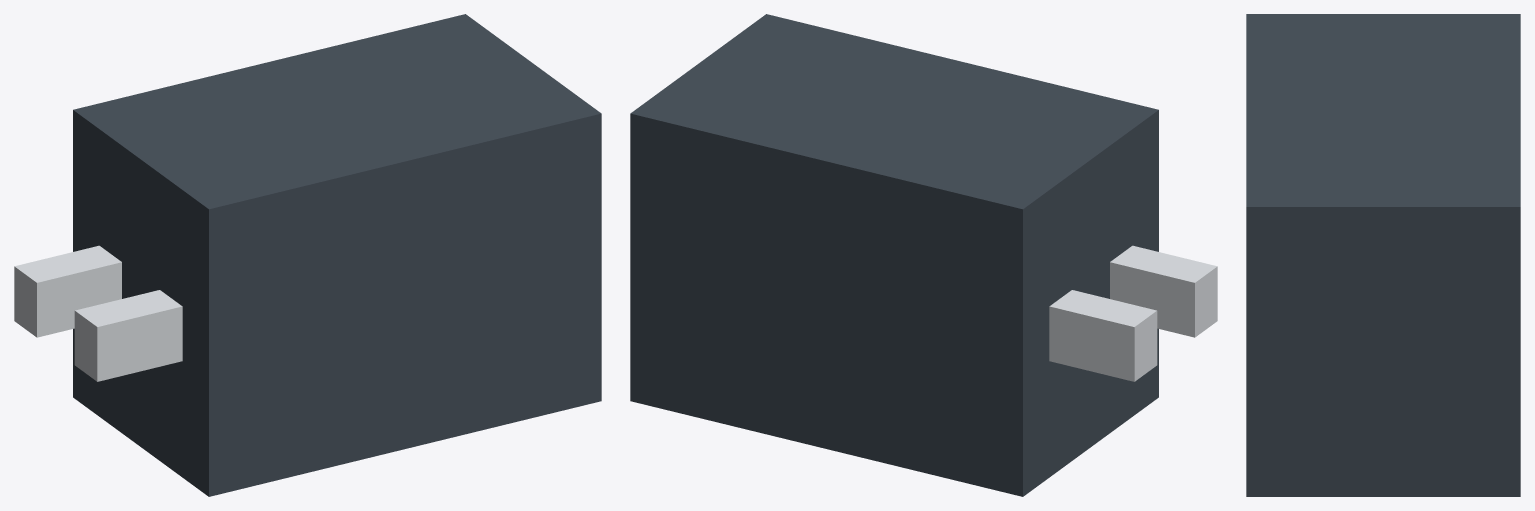
File: ac-plug.glb
3 renders of one model, left to right at view 1: azimuth 30°, elevation 25°; view 2: azimuth 150°, elevation 25°; view 3: azimuth 270°, elevation 25°, orthographic.
Visible parts, largest first — view 1: iec_plug_1, iec_contact_3, iec_contact_2; view 2: iec_plug_1, iec_contact_2, iec_contact_3; view 3: iec_plug_1.
Part boxes in pixels (x1=…): iec_plug_1: x1=73, y1=14, x2=601, y2=496; iec_contact_3: x1=74, y1=290, x2=182, y2=381; iec_contact_2: x1=14, y1=245, x2=121, y2=337; iec_plug_1: x1=630, y1=14, x2=1158, y2=496; iec_contact_2: x1=1049, y1=290, x2=1157, y2=381; iec_contact_3: x1=1110, y1=245, x2=1217, y2=337; iec_plug_1: x1=1246, y1=14, x2=1520, y2=496.
Size of the model in its own units: 0.365 by 0.21 by 0.18.
